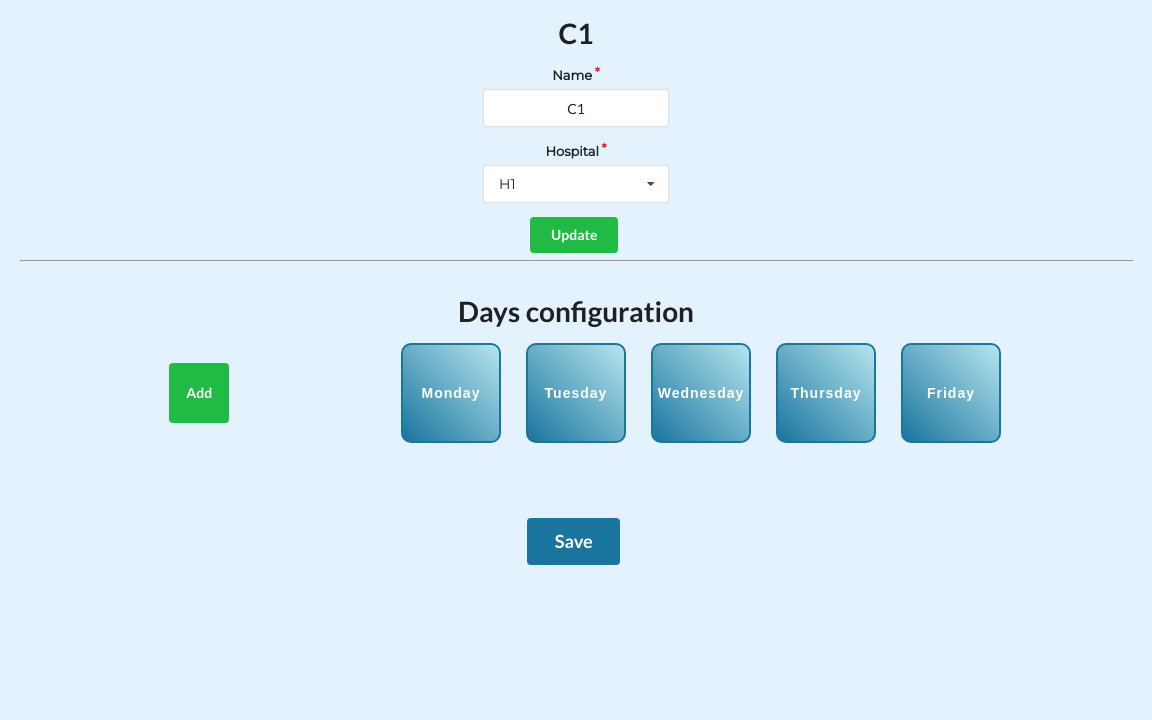
CalendarPage › when renders › when user modifies the name › should change the header
Replace the text in the field labelled "Name" with "Calendar 4" at {"x": 576, "y": 108}, box [483, 89, 669, 127]
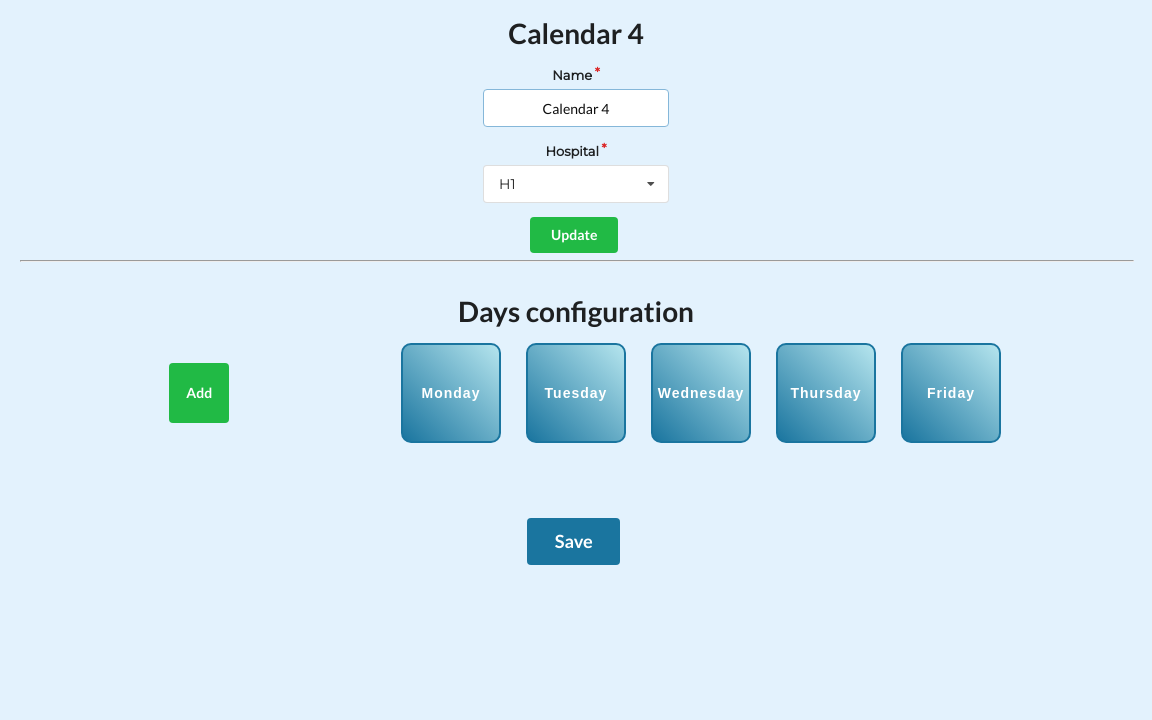
Expected: the heading "Calendar 4" is shown, [508, 15, 644, 51]
